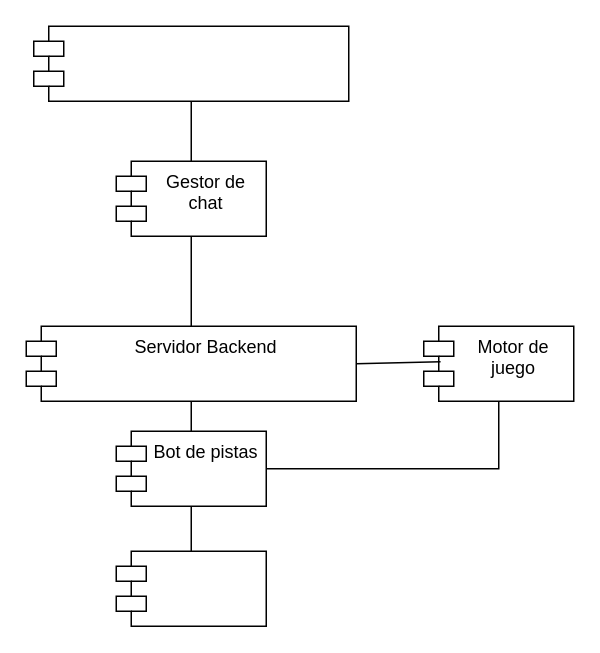
The diagram is 600 pixels wide and 653 high, and some of its shapes have lost their labels. Here are the shapes that lost their labels. From the top down, the centre of each, then its label:
At (190,63): "Interfaz de Usuario".
At (190,588): "Base de datos".
